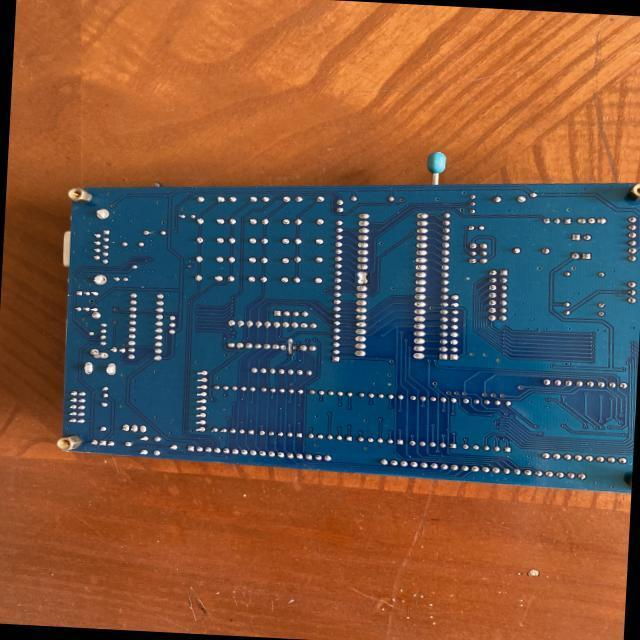damged: (355, 270, 370, 285), (283, 341, 296, 354)
